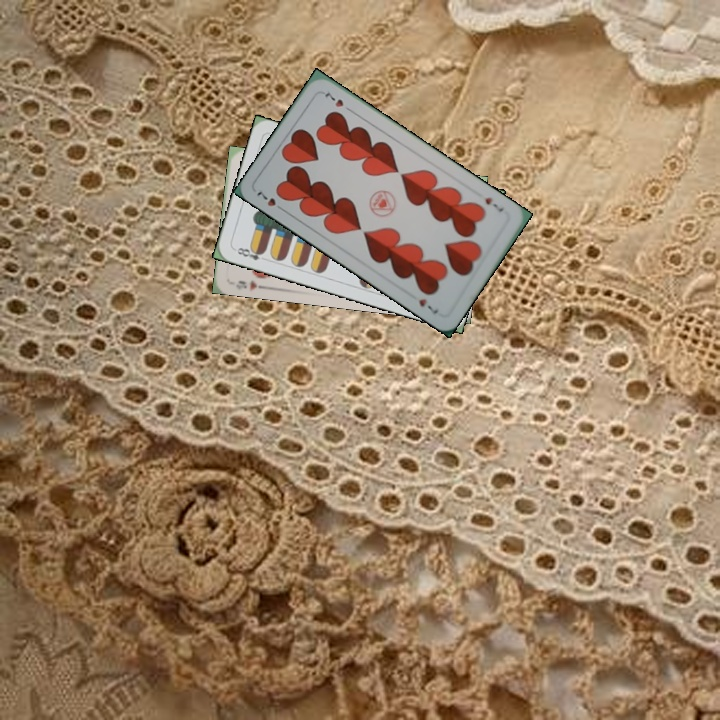E8: (230, 243, 270, 263)
H7: (252, 185, 288, 214), (481, 193, 506, 215)
H9: (231, 276, 268, 293)
